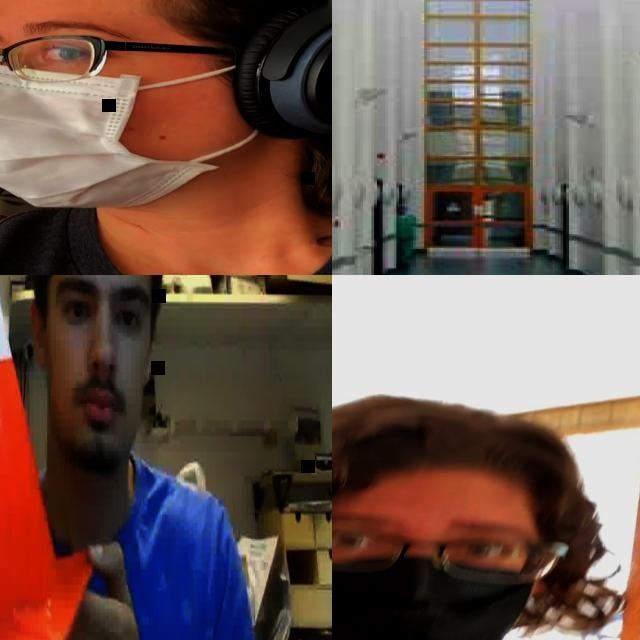Mask: (0, 63, 258, 213), (332, 556, 540, 640)
NO-Hardhat: (332, 392, 577, 516)
NO-Mask: (58, 374, 142, 468)
NO-Safety Vest: (43, 478, 211, 640)
Person: (0, 275, 255, 640), (0, 0, 332, 275), (332, 388, 640, 640)
Safety Cone: (0, 275, 100, 640)
